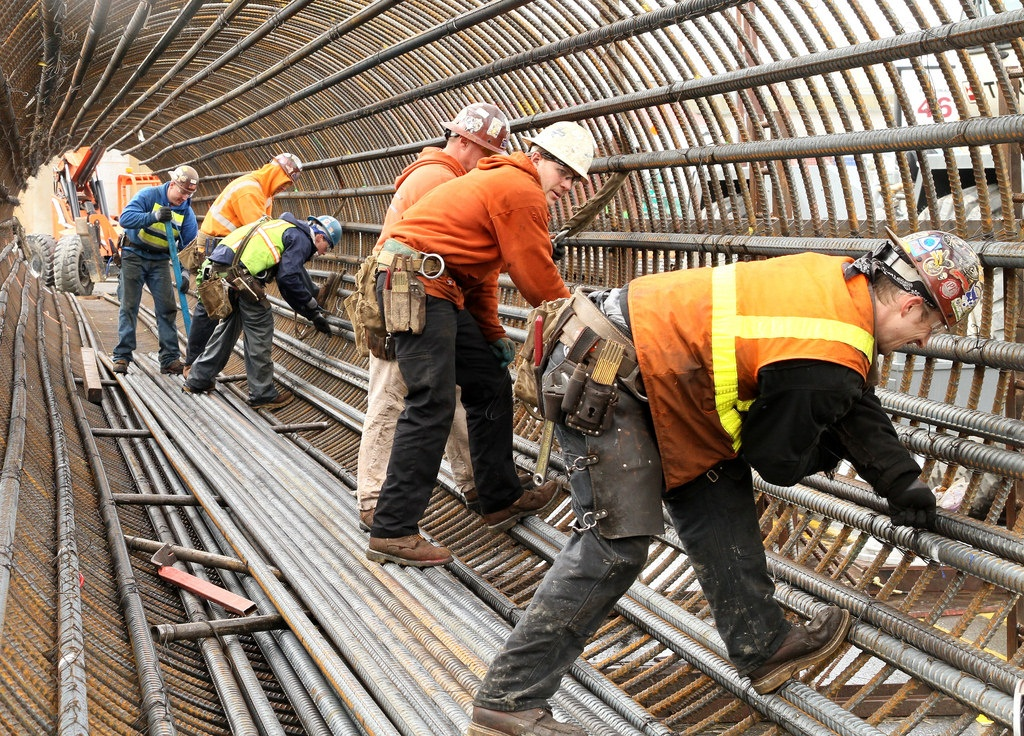blue: (303, 211, 344, 255)
red: (865, 218, 988, 350), (441, 99, 512, 170), (165, 163, 199, 207), (270, 151, 302, 189)
white: (529, 116, 593, 201)
